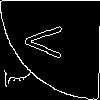V: (25, 25, 71, 58)
